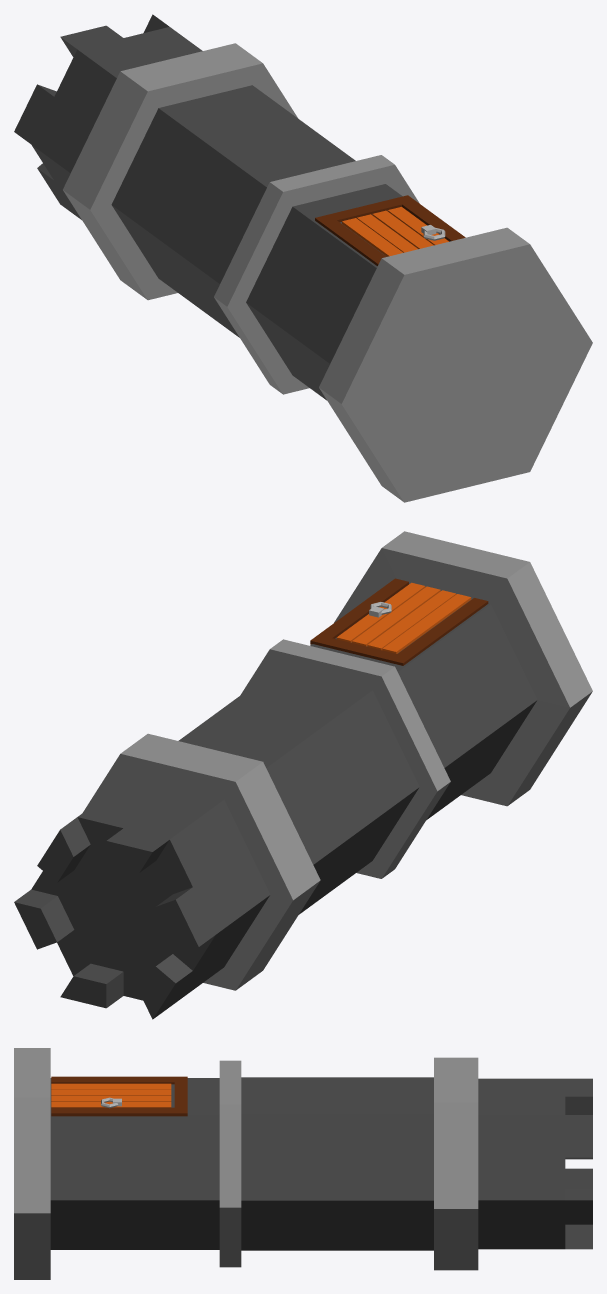
Rendered from tower_3_lifes.fbx.
3 views of the same model, one above another, from view 1: azimuth 30°, elevation 25°; view 2: azimuth 150°, elevation 25°; view 3: azimuth 270°, elevation 25° (orthographic). The views are drawn at different scales.
Parts seen in each view (by area): view 1: Cylinder; view 2: Cylinder; view 3: Cylinder.
Part boxes in pixels (x1,y1,x2,y2): Cylinder: (14, 14, 592, 502); Cylinder: (14, 531, 592, 1019); Cylinder: (14, 1048, 592, 1279).
Size of the model in its own units: 539 by 466 by 1339.
